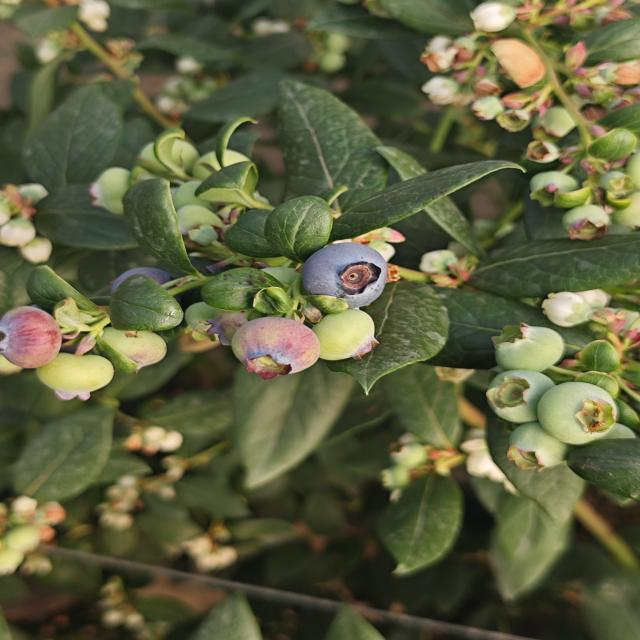ripe: (303, 240, 402, 307), (111, 256, 208, 304)
